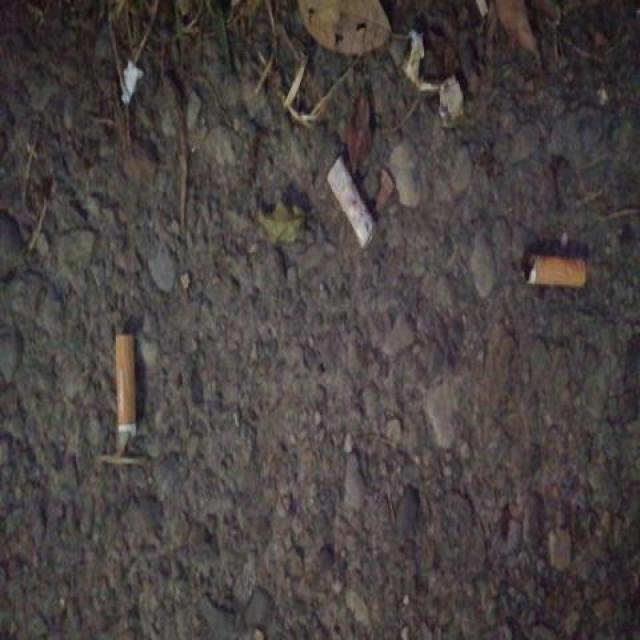non-organic waste: (325, 151, 382, 256), (110, 326, 139, 454), (518, 245, 591, 295)
